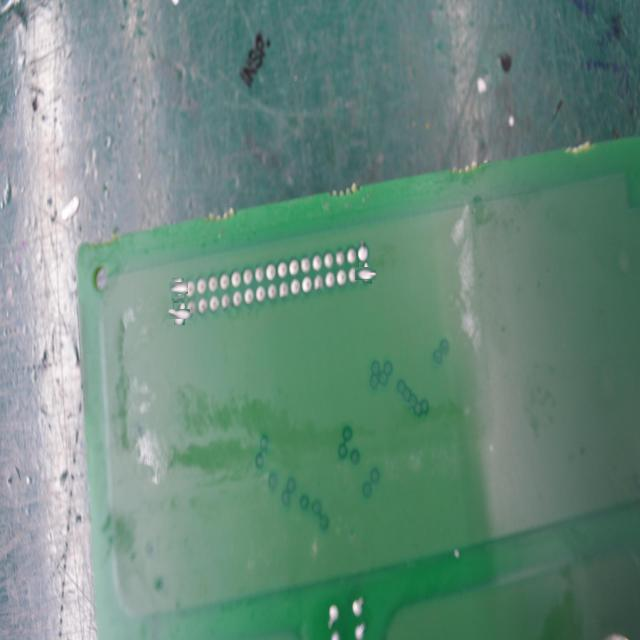slug: (357, 265, 374, 282), (171, 306, 188, 322), (170, 280, 186, 296)
